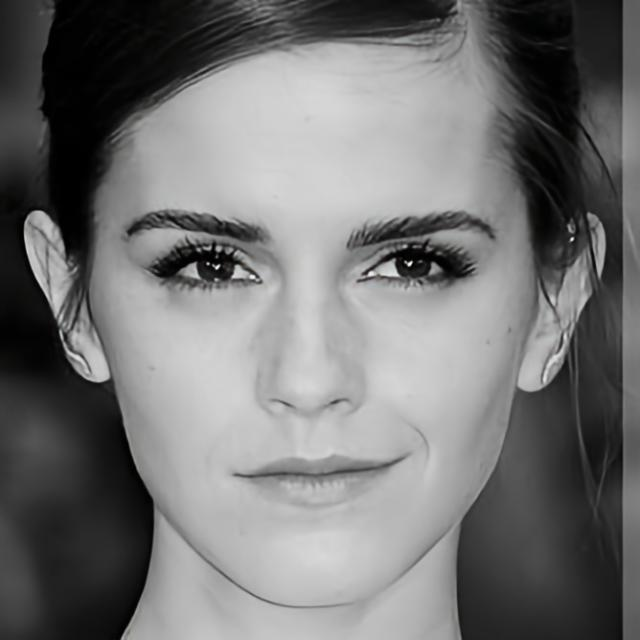content: (88, 6, 540, 608)
